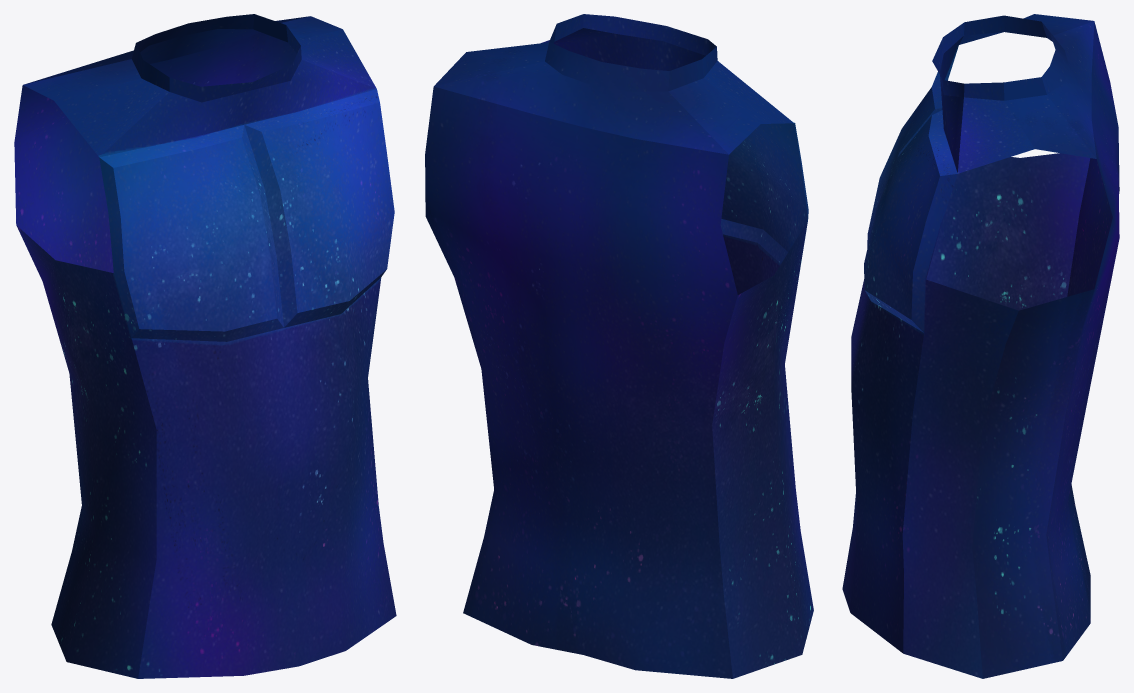
File: dinoShirt.fbx
The picture shows the model from 3 angles, left to right: view 1: azimuth 30°, elevation 25°; view 2: azimuth 150°, elevation 25°; view 3: azimuth 270°, elevation 25°; orthographic projection. The views are drawn at different scales.
Visible parts, largest first — view 1: dinoShirt; view 2: dinoShirt; view 3: dinoShirt.
Boxes of the visible parts, bbox=[...] form: dinoShirt: bbox=[14, 14, 396, 678]; dinoShirt: bbox=[425, 14, 813, 678]; dinoShirt: bbox=[842, 14, 1119, 678].
Size of the model in its own units: 38.85 by 66.47 by 30.15.
Materials: 1 (1 with a texture image).
